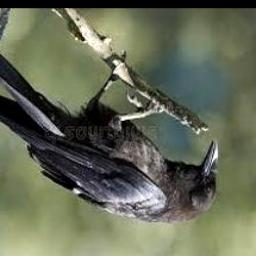Crow: (0, 41, 219, 226)
